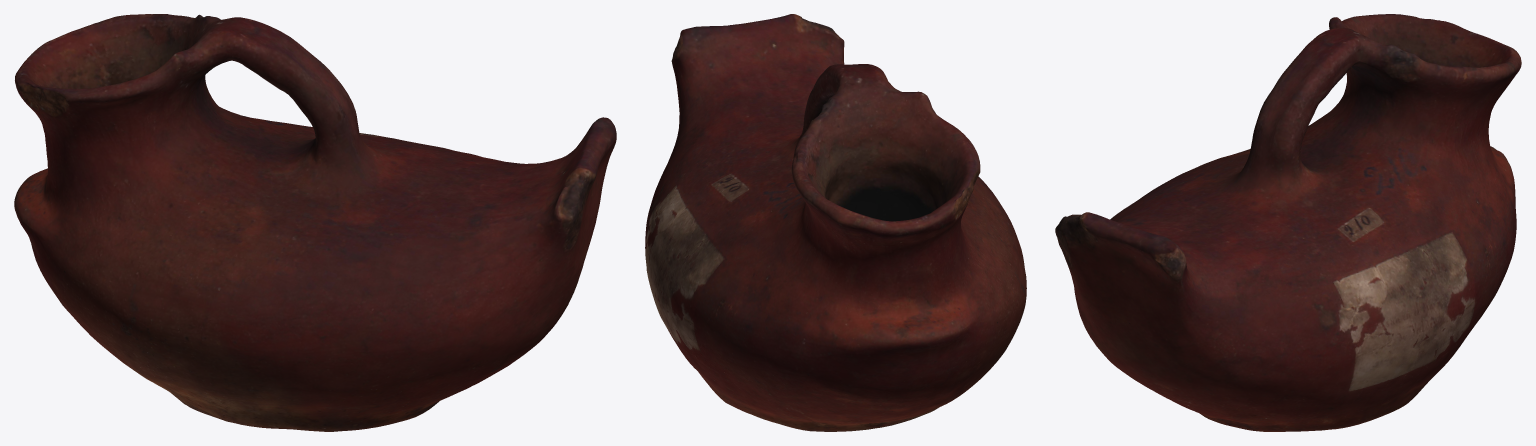
File: Jarro_pato_mapuche.obj
The picture shows the model from 3 angles, left to right: view 1: azimuth 30°, elevation 25°; view 2: azimuth 150°, elevation 25°; view 3: azimuth 270°, elevation 25°; orthographic projection. The views are drawn at different scales.
Parts seen in each view (by area): view 1: mmGroup0; view 2: mmGroup0; view 3: mmGroup0.
Part boxes in pixels (x1=…): mmGroup0: x1=14, y1=14, x2=616, y2=431; mmGroup0: x1=645, y1=14, x2=1026, y2=431; mmGroup0: x1=1055, y1=14, x2=1521, y2=431.
Size of the model in its own units: 152 by 116 by 149.
1 material, 1 textured.
